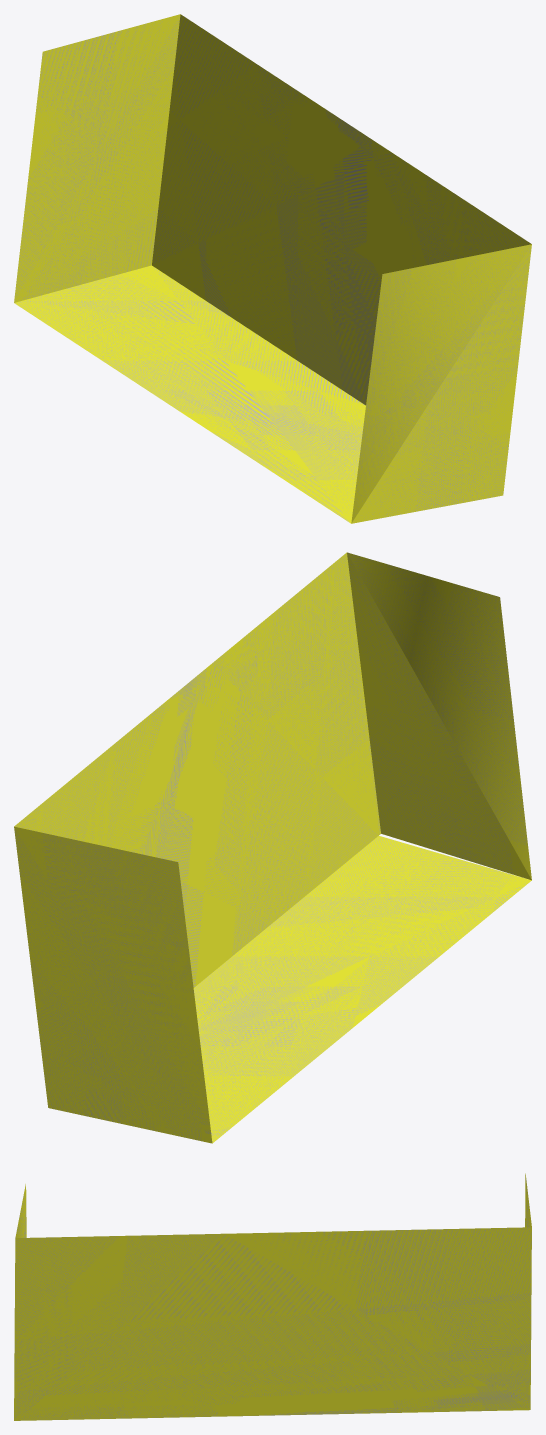
File: original-7.obj
3 views of the same model, one above another, from view 1: azimuth 30°, elevation 25°; view 2: azimuth 150°, elevation 25°; view 3: azimuth 270°, elevation 25° (orthographic). The views are drawn at different scales.
Parts seen in each view (by area): view 1: 3dw.e2c049a1e7b7004bf44a292ef014253/Model/mesh1/mesh1-geometry/m; view 2: 3dw.e2c049a1e7b7004bf44a292ef014253/Model/mesh1/mesh1-geometry/m; view 3: 3dw.e2c049a1e7b7004bf44a292ef014253/Model/mesh1/mesh1-geometry/m.
Part boxes in pixels (left/top/right/bottom): 3dw.e2c049a1e7b7004bf44a292ef014253/Model/mesh1/mesh1-geometry/m: left=14, top=14, right=531, bottom=523; 3dw.e2c049a1e7b7004bf44a292ef014253/Model/mesh1/mesh1-geometry/m: left=14, top=552, right=531, bottom=1143; 3dw.e2c049a1e7b7004bf44a292ef014253/Model/mesh1/mesh1-geometry/m: left=14, top=1173, right=531, bottom=1420.
Size of the model in its own units: 0.0755 by 0.0881 by 0.2129.
